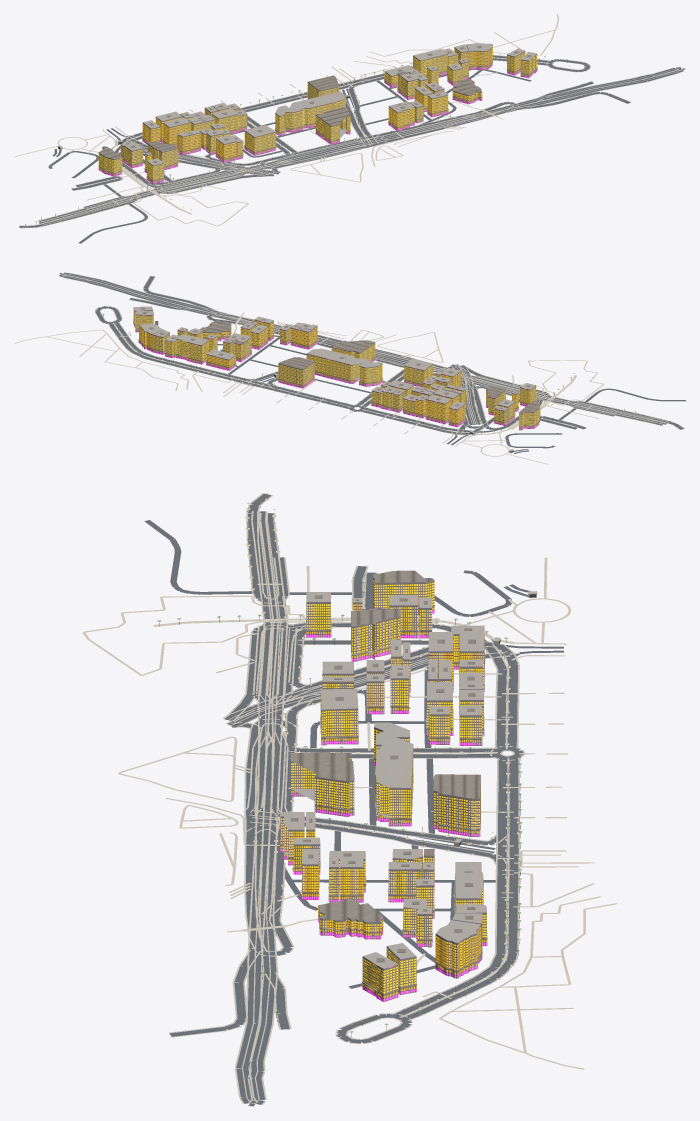
The model's file is urban-south-stage6.glb.
3 renders of one model, top to bottom at view 1: azimuth 30°, elevation 25°; view 2: azimuth 150°, elevation 25°; view 3: azimuth 270°, elevation 25°, orthographic. The views are drawn at different scales.
Parts seen in each view (by area): view 1: urban-street-south-roads, urban-street-south-sidewalks, urban-street-south-promenades, urban-hotel-713-S037, urban-hotel-725-S038, urban-hotel-724-S004, urban-hotel-2469-S469, urban-hotel-2471-S471, urban-hotel-2408-S408, urban-hotel-735-S017, urban-hotel-2475-S475, urban-hotel-2446-S446 (+12 smaller); view 2: urban-street-south-roads, urban-street-south-sidewalks, urban-street-south-promenades, urban-hotel-713-S037, urban-hotel-2438-S438, urban-hotel-2469-S469, urban-hotel-725-S038, urban-hotel-724-S004, urban-hotel-711-S014, urban-hotel-735-S017, urban-hotel-2466-S466, urban-hotel-2475-S475 (+7 smaller); view 3: urban-street-south-roads, urban-street-south-sidewalks, urban-street-south-promenades, urban-hotel-713-S037, urban-hotel-725-S038, urban-hotel-2438-S438, urban-hotel-2471-S471, urban-hotel-2408-S408, urban-hotel-2475-S475, urban-hotel-724-S004, urban-hotel-735-S017, urban-hotel-2474-S474 (+10 smaller).
Boxes of the visible parts, x1,y1,x2,y2 form: urban-street-south-roads: [19, 55, 684, 243]; urban-street-south-sidewalks: [19, 55, 685, 228]; urban-street-south-promenades: [14, 14, 558, 226]; urban-hotel-713-S037: [275, 91, 345, 135]; urban-hotel-725-S038: [315, 107, 350, 144]; urban-hotel-724-S004: [244, 125, 276, 155]; urban-hotel-2469-S469: [413, 49, 447, 77]; urban-hotel-2471-S471: [466, 42, 493, 69]; urban-hotel-2408-S408: [147, 141, 178, 170]; urban-hotel-735-S017: [98, 146, 122, 176]; urban-hotel-2475-S475: [452, 79, 482, 104]; urban-hotel-2446-S446: [391, 103, 414, 131]; urban-street-south-roads: [59, 272, 685, 453]; urban-street-south-sidewalks: [58, 272, 684, 434]; urban-street-south-promenades: [14, 312, 603, 464]; urban-hotel-713-S037: [306, 348, 382, 386]; urban-hotel-2438-S438: [278, 357, 314, 388]; urban-hotel-2469-S469: [176, 334, 208, 364]; urban-hotel-725-S038: [331, 340, 375, 362]; urban-hotel-724-S004: [404, 358, 433, 386]; urban-hotel-711-S014: [425, 394, 451, 424]; urban-hotel-735-S017: [519, 402, 540, 430]; urban-hotel-2466-S466: [206, 349, 236, 370]; urban-hotel-2475-S475: [200, 320, 231, 341]; urban-street-south-roads: [144, 493, 563, 1106]; urban-street-south-sidewalks: [169, 493, 525, 1106]; urban-street-south-promenades: [82, 557, 617, 1069]; urban-hotel-713-S037: [373, 722, 413, 826]; urban-hotel-725-S038: [291, 753, 354, 816]; urban-hotel-2438-S438: [433, 774, 480, 836]; urban-hotel-2471-S471: [435, 920, 481, 978]; urban-hotel-2408-S408: [351, 609, 400, 661]; urban-hotel-2475-S475: [318, 898, 383, 939]; urban-hotel-724-S004: [320, 689, 358, 745]; urban-hotel-735-S017: [373, 570, 434, 615]; urban-hotel-2474-S474: [362, 952, 398, 1001].
Size of the model in its own units: 1569 by 49.1 by 579.
Materials: 10 (1 with a texture image).
